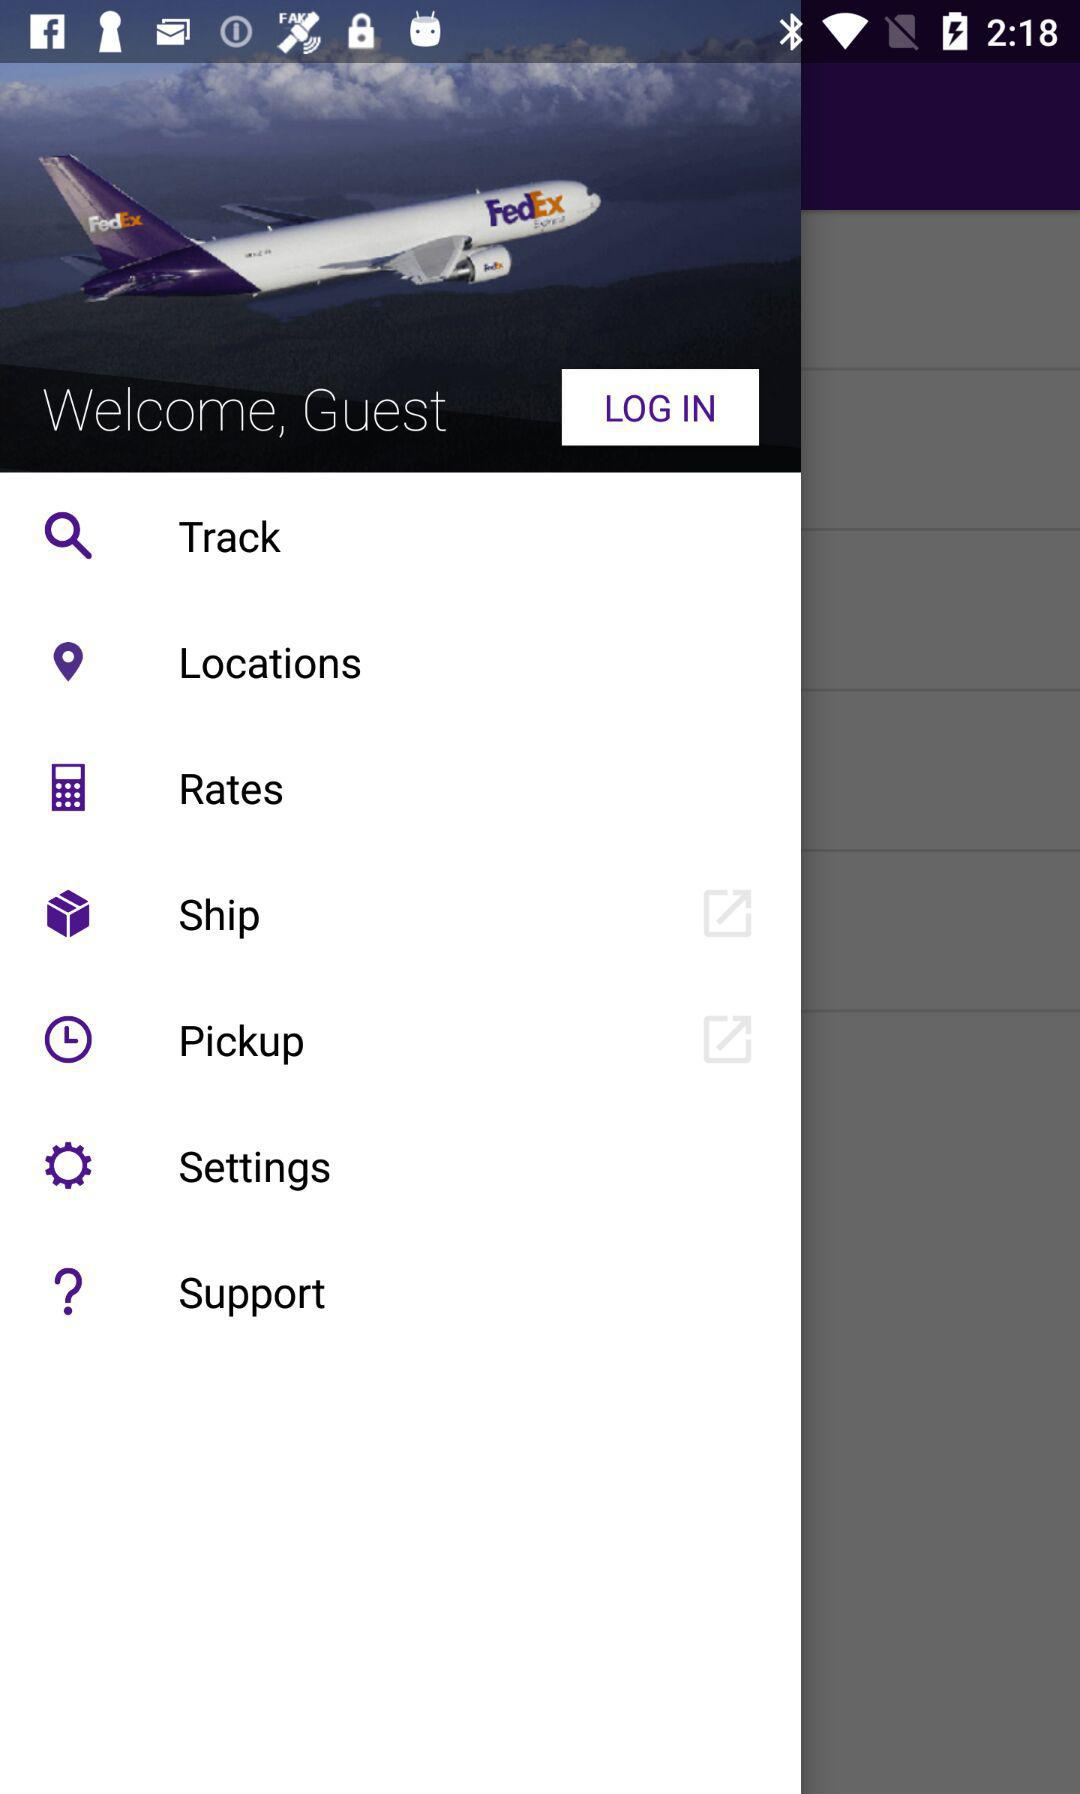Drawer: (1, 65, 801, 1794)
Icon: (703, 1015, 753, 1065), (45, 1140, 94, 1190), (45, 1015, 94, 1065), (703, 889, 753, 938), (45, 513, 94, 561), (54, 1267, 85, 1317), (53, 642, 85, 684)
Image: (1, 64, 801, 474), (47, 889, 91, 939), (51, 762, 87, 812)
Text: (42, 386, 448, 440), (179, 1149, 331, 1193), (181, 646, 363, 680), (179, 1276, 328, 1319), (179, 1023, 305, 1067), (179, 896, 261, 941), (179, 520, 283, 555), (181, 773, 284, 807)
TextButton: (562, 369, 760, 447)
UpperTaskBar: (1, 1, 1080, 64)
